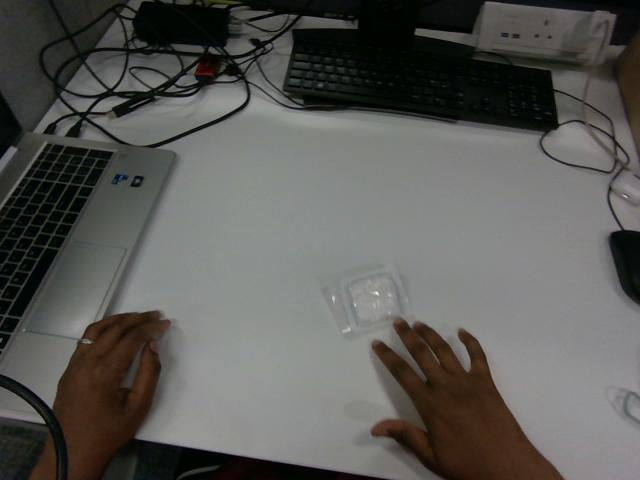gauze: (321, 263, 409, 334)
